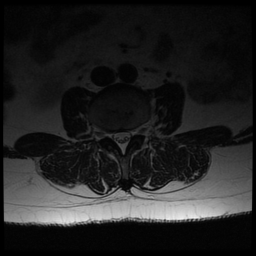CCS_normal: (118, 125, 125, 159)
LFS_normal: (131, 119, 139, 141)
LLS_normal: (125, 124, 131, 151)
RFS_normal: (103, 122, 111, 143)
RLS_normal: (111, 123, 118, 147)
